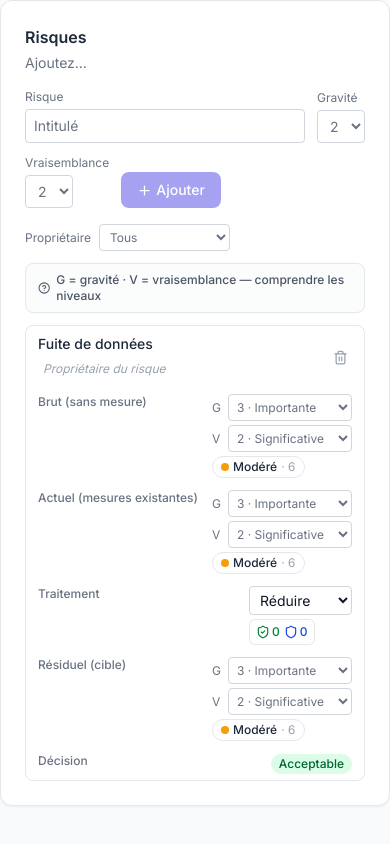
RisquesDirects — projet 360 : suppression soumise à validation › un analyste DEMANDE la suppression (envoyée au RSSI) ; le risque reste, marqué
Check: the text "Fuite de données" is shown, box [38, 334, 321, 380]
Click the button named "Demander la suppression": x=340, y=357 [329, 346, 352, 368]
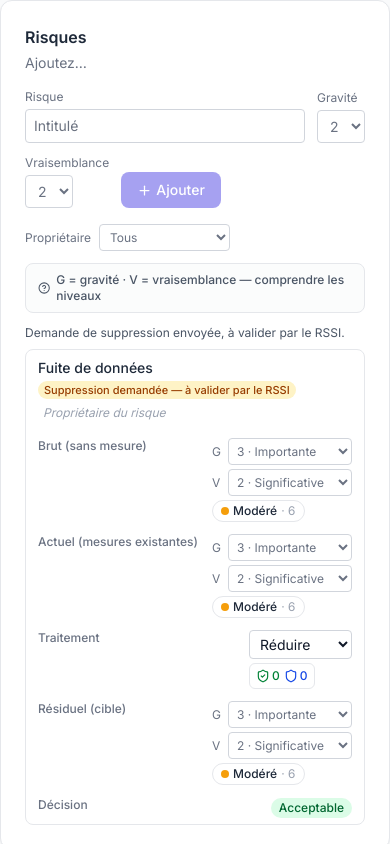
Check: the text "Demande de suppression envoyée, à valider par le RSSI." is shown, box [25, 325, 365, 341]
Check: the text "Suppression demandée — à valider par le RSSI" is shown, box [38, 381, 296, 399]
